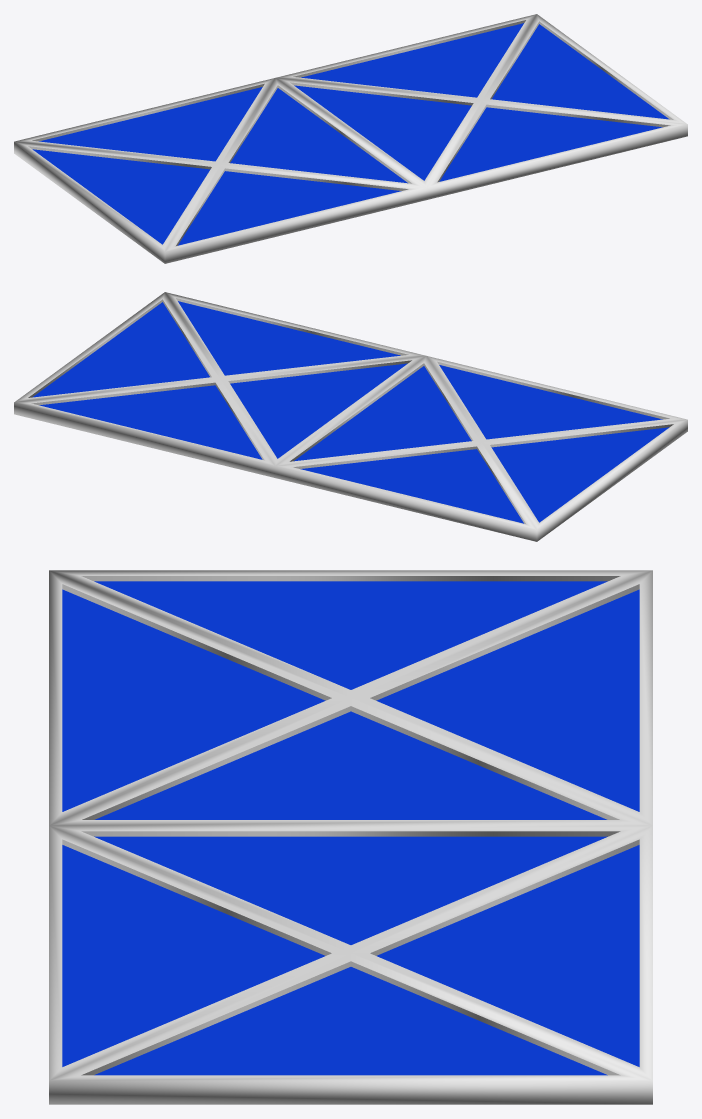
File: SM_FloorGrating4x2.fbx
3 views of the same model, one above another, from view 1: azimuth 30°, elevation 25°; view 2: azimuth 150°, elevation 25°; view 3: azimuth 270°, elevation 25° (orthographic). The views are drawn at different scales.
Visible parts, largest first — view 1: FloorGrating4x2; view 2: FloorGrating4x2; view 3: FloorGrating4x2.
Part boxes in pixels (box(x1,y1,x2,y2)): FloorGrating4x2: box(14, 14, 687, 263); FloorGrating4x2: box(14, 292, 687, 541); FloorGrating4x2: box(49, 570, 652, 1104).
Bounding box in the file's own units: 400 × 8.66 × 200.
